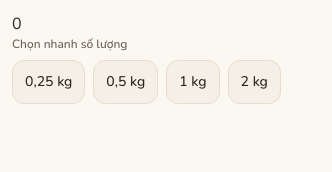
PantryQuantityPresets › fills a decimal quantity for the exact kg unit
The image size is (332, 172).
Click the button "0,5 kg" at (126, 82), box [93, 60, 158, 104]
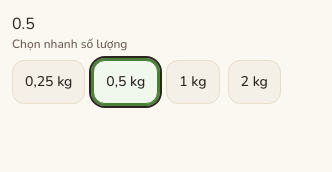
Check: the field named "Quantity" holds "0.5", box [12, 12, 211, 36]
